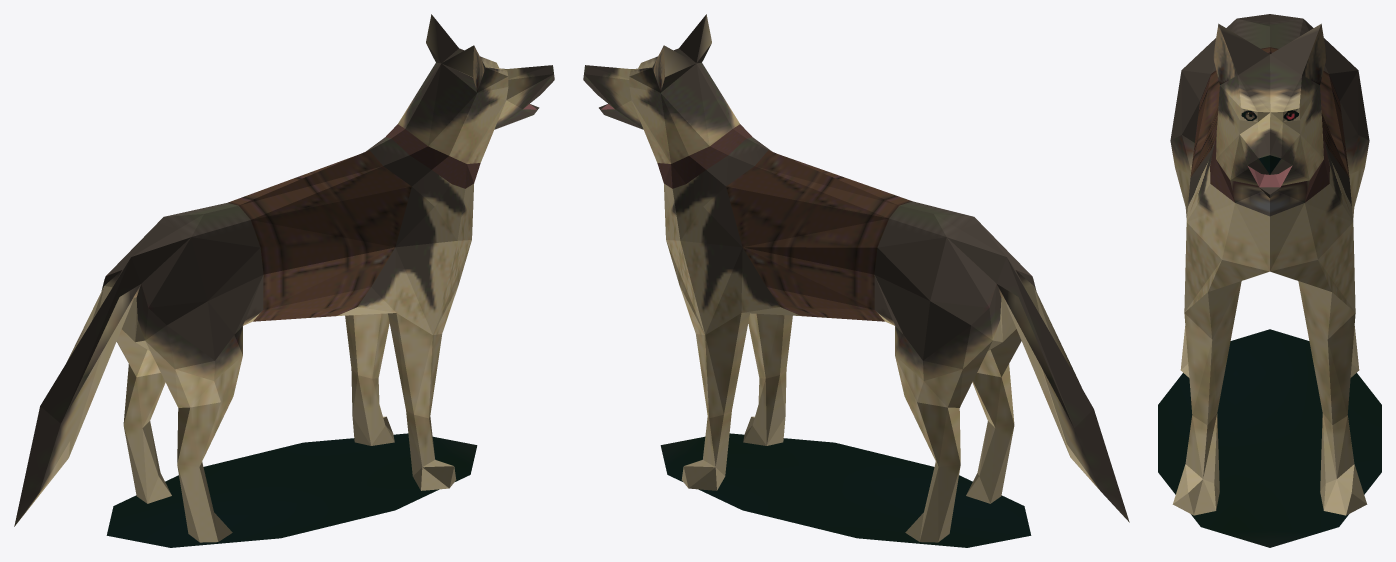
File: delete.ico.obj
3 views of the same model, side by side, from view 1: azimuth 30°, elevation 25°; view 2: azimuth 150°, elevation 25°; view 3: azimuth 270°, elevation 25° (orthographic). The views are drawn at different scales.
Bounding box in the file's own units: 3.49 × 2.59 × 1.03.
Materials: 1 (1 with a texture image).
